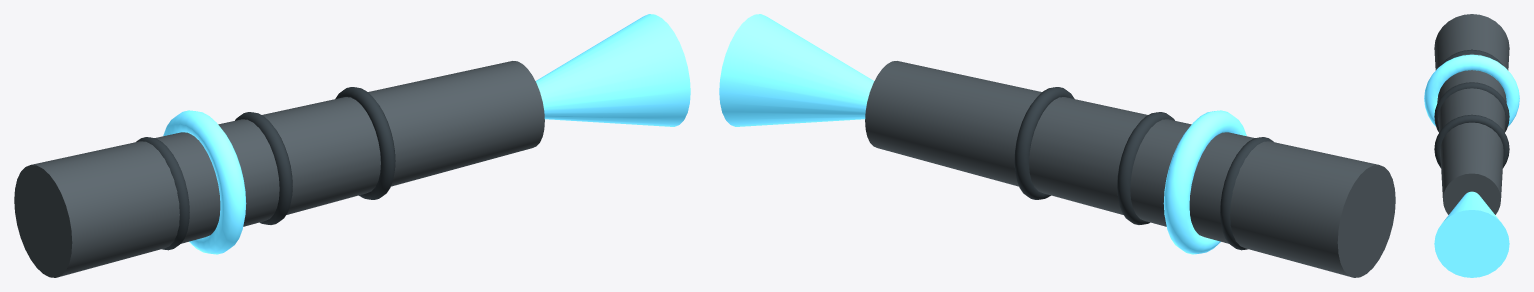
Rendered from shot.glb.
The picture shows the model from 3 angles, left to right: view 1: azimuth 30°, elevation 25°; view 2: azimuth 150°, elevation 25°; view 3: azimuth 270°, elevation 25°; orthographic projection. The views are drawn at different scales.
Size of the model in its own units: 2.71 by 0.56 by 0.56.
